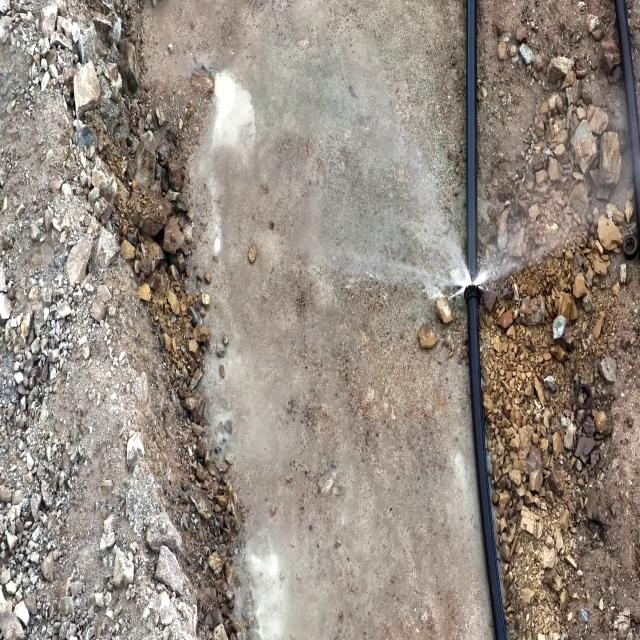leak: (370, 169, 553, 302)
